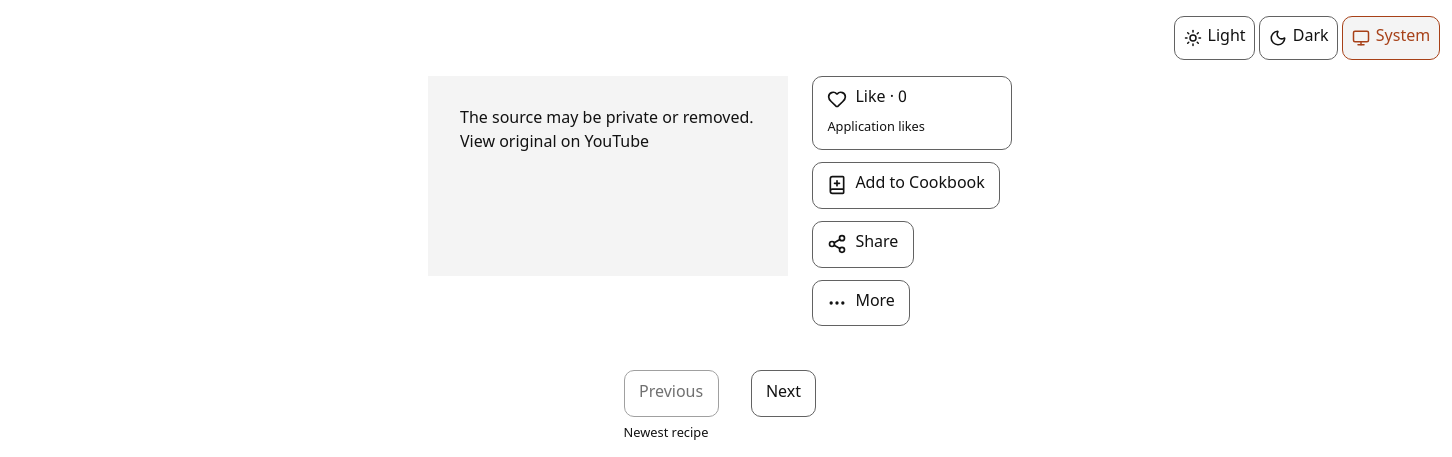
Test: Share and newest navigation › removes player and server metadata when neighbor recheck finds a hidden current recipe
Click the button "Next" at coordinates (783, 394), box top-left (750, 370), bottom-right (816, 417)
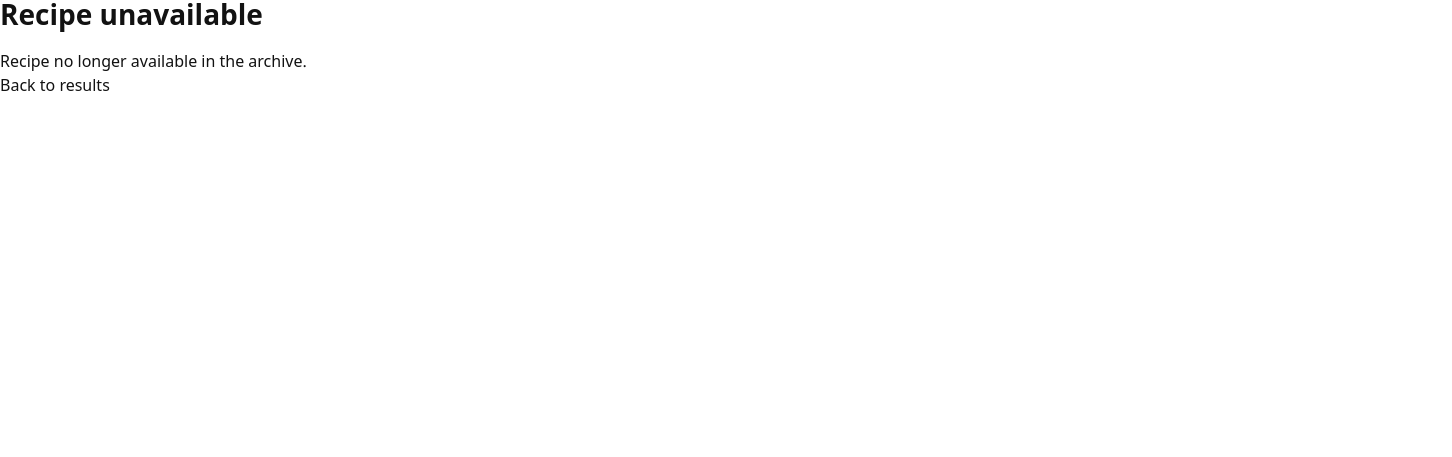
expect the message shows "Recipe no longer available": met, box top-left (0, 53), bottom-right (307, 74)
expect the link "View original on YouTube" is gone: met
